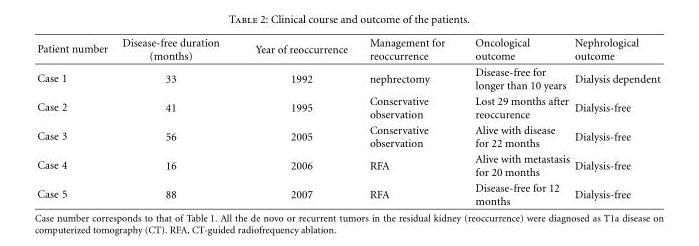table: (36, 36, 659, 206)
table column: (114, 36, 236, 206), (236, 36, 358, 206), (459, 36, 571, 206), (358, 36, 459, 206), (571, 36, 659, 206), (36, 36, 114, 206)
table column header: (36, 36, 659, 63)
table row: (36, 63, 659, 92), (36, 92, 659, 121), (36, 121, 659, 150), (36, 150, 659, 179), (36, 36, 659, 63), (36, 179, 659, 206)
